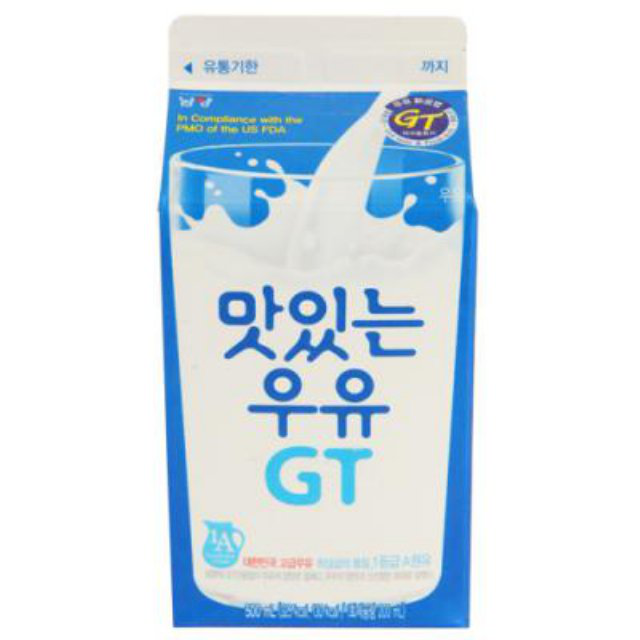milk: (158, 17, 477, 631)
